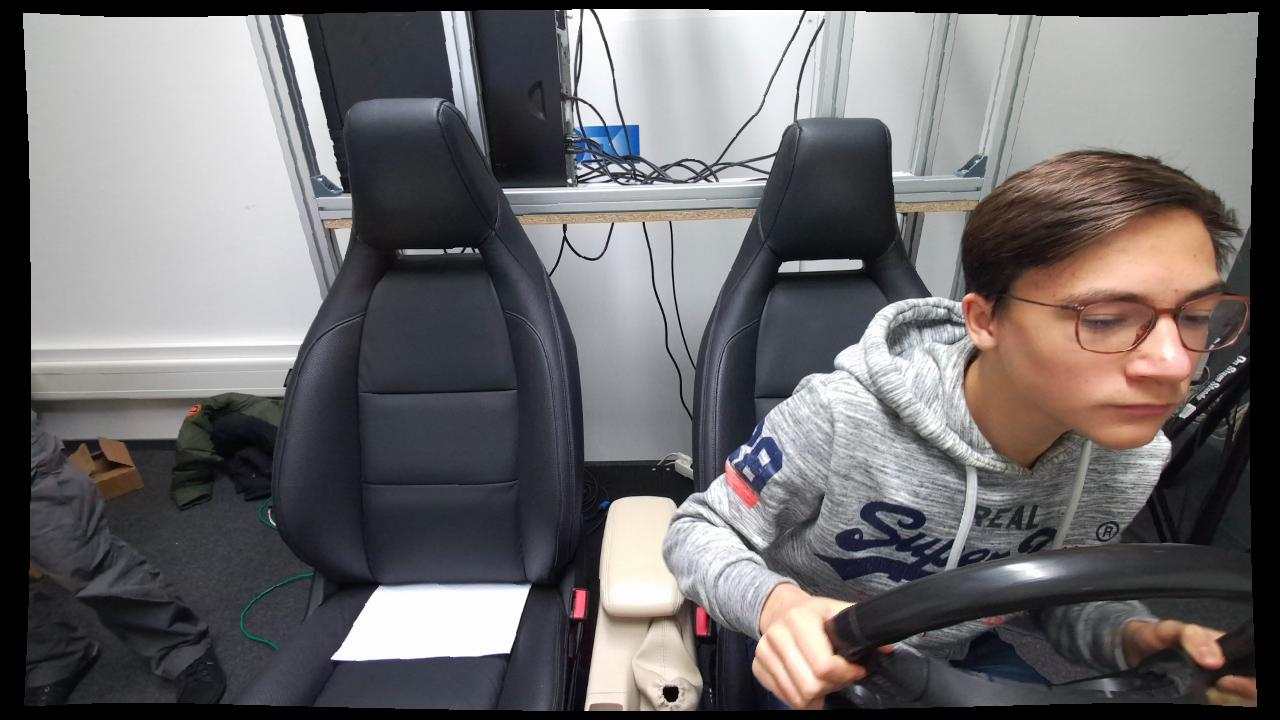Distracted: (663, 147, 1248, 711)
